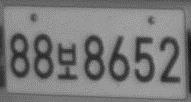2: (158, 36, 181, 84)
5: (133, 35, 156, 82)
6: (107, 34, 131, 82)
8: (83, 34, 105, 80), (33, 33, 54, 79), (10, 33, 29, 78)
보: (55, 41, 79, 82)
